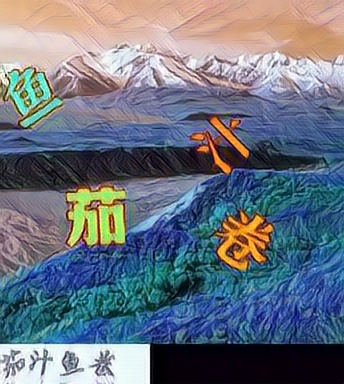BEED: (211, 207, 273, 271)
C7D1: (64, 183, 126, 247)
D3E3: (2, 65, 64, 129)
D6AD: (188, 111, 250, 175)
